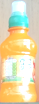orange: (1, 1, 38, 103)
